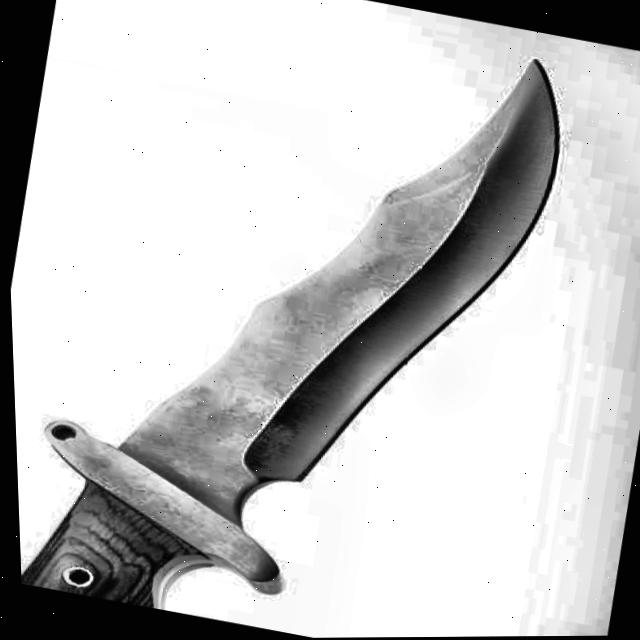pisau: (17, 51, 589, 618)
